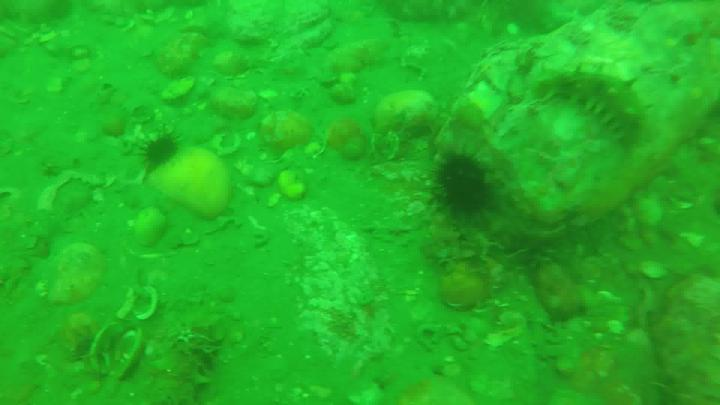echinus: (539, 69, 649, 152), (149, 323, 221, 405)
scallop: (153, 134, 228, 214), (86, 322, 146, 386), (124, 287, 161, 325), (137, 208, 168, 250)
starfish: (429, 153, 491, 222), (136, 130, 182, 164)
